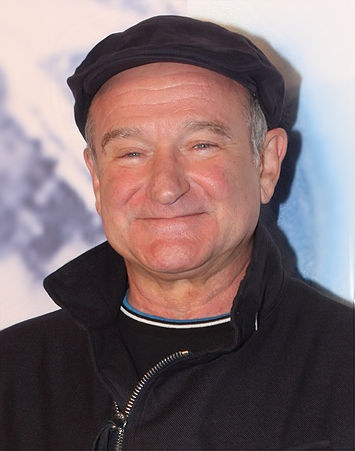bad: (77, 98, 262, 284)
